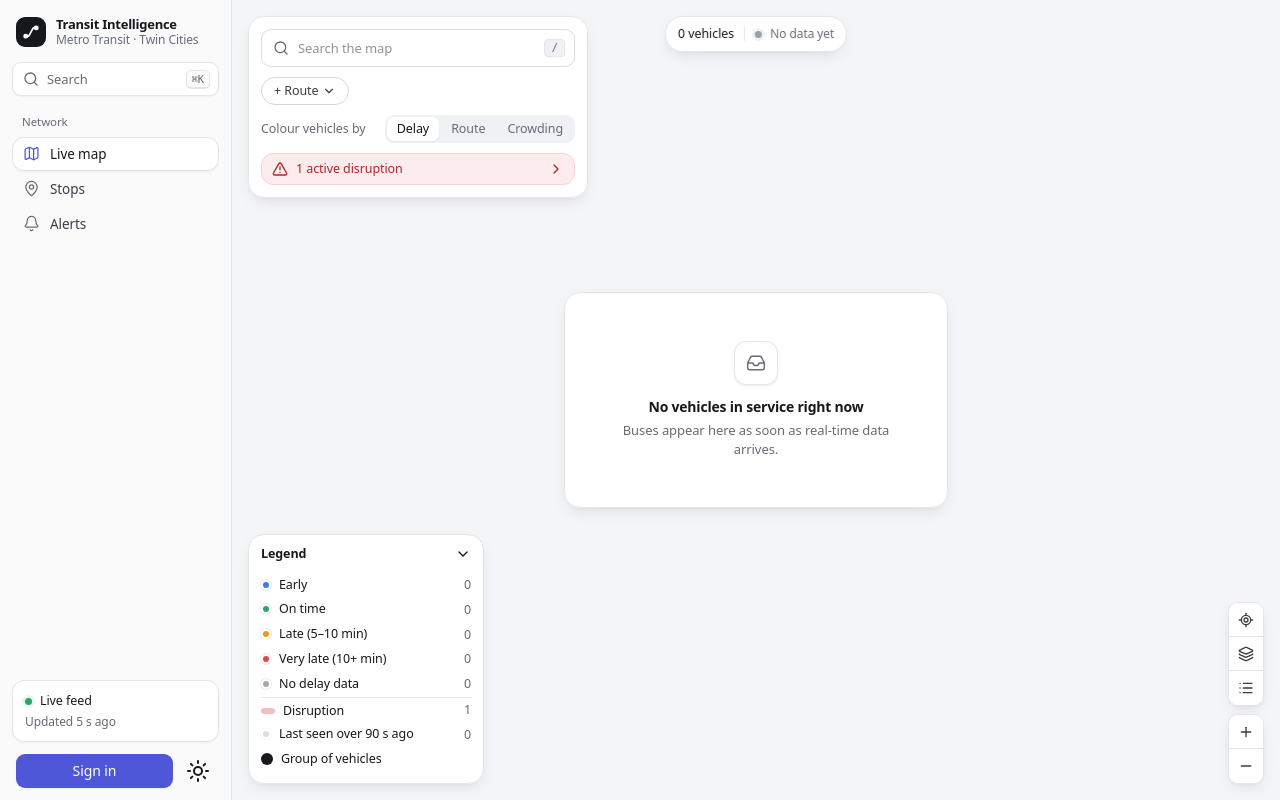
Test: search (⌘K) › lists only the pages the user may open
Click the button "Search ⌘K": [116, 79] box [12,62,219,96]
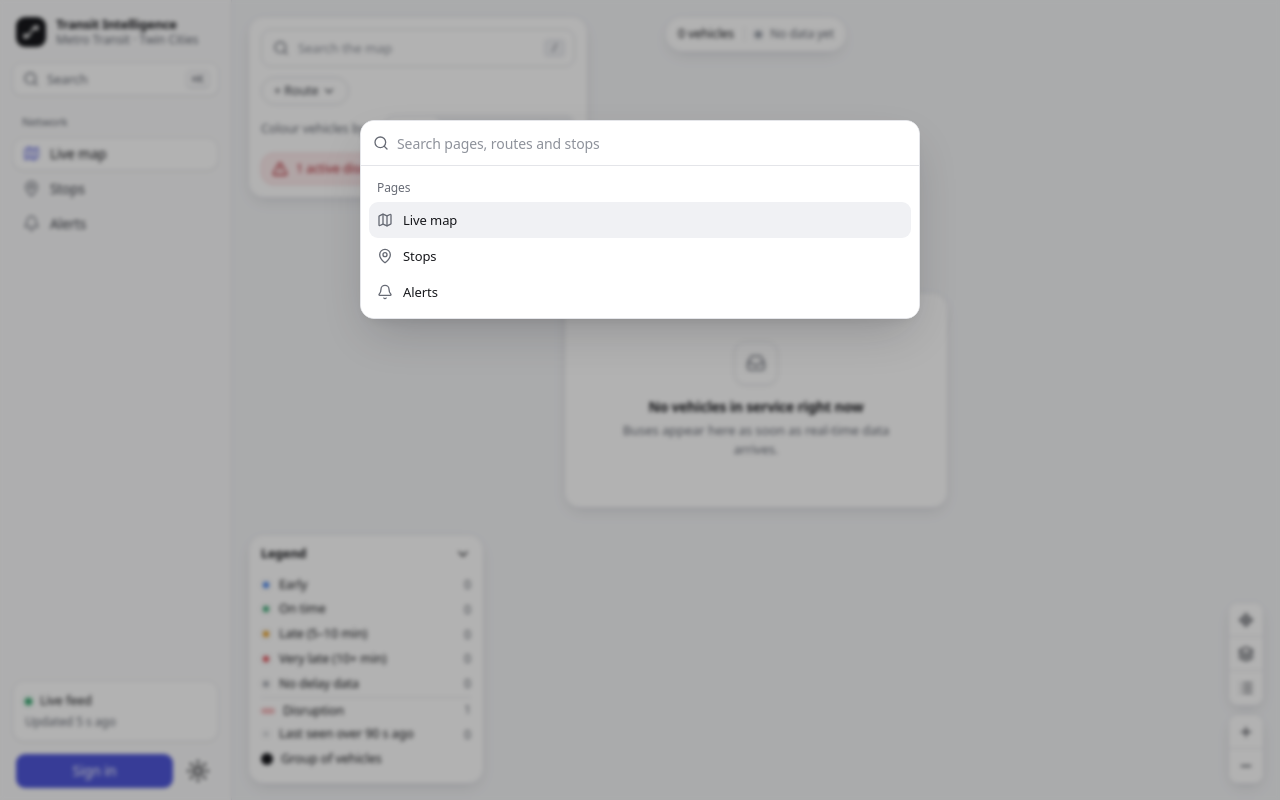
Check: the option "Live map" is shown, box [369,202,911,238]
